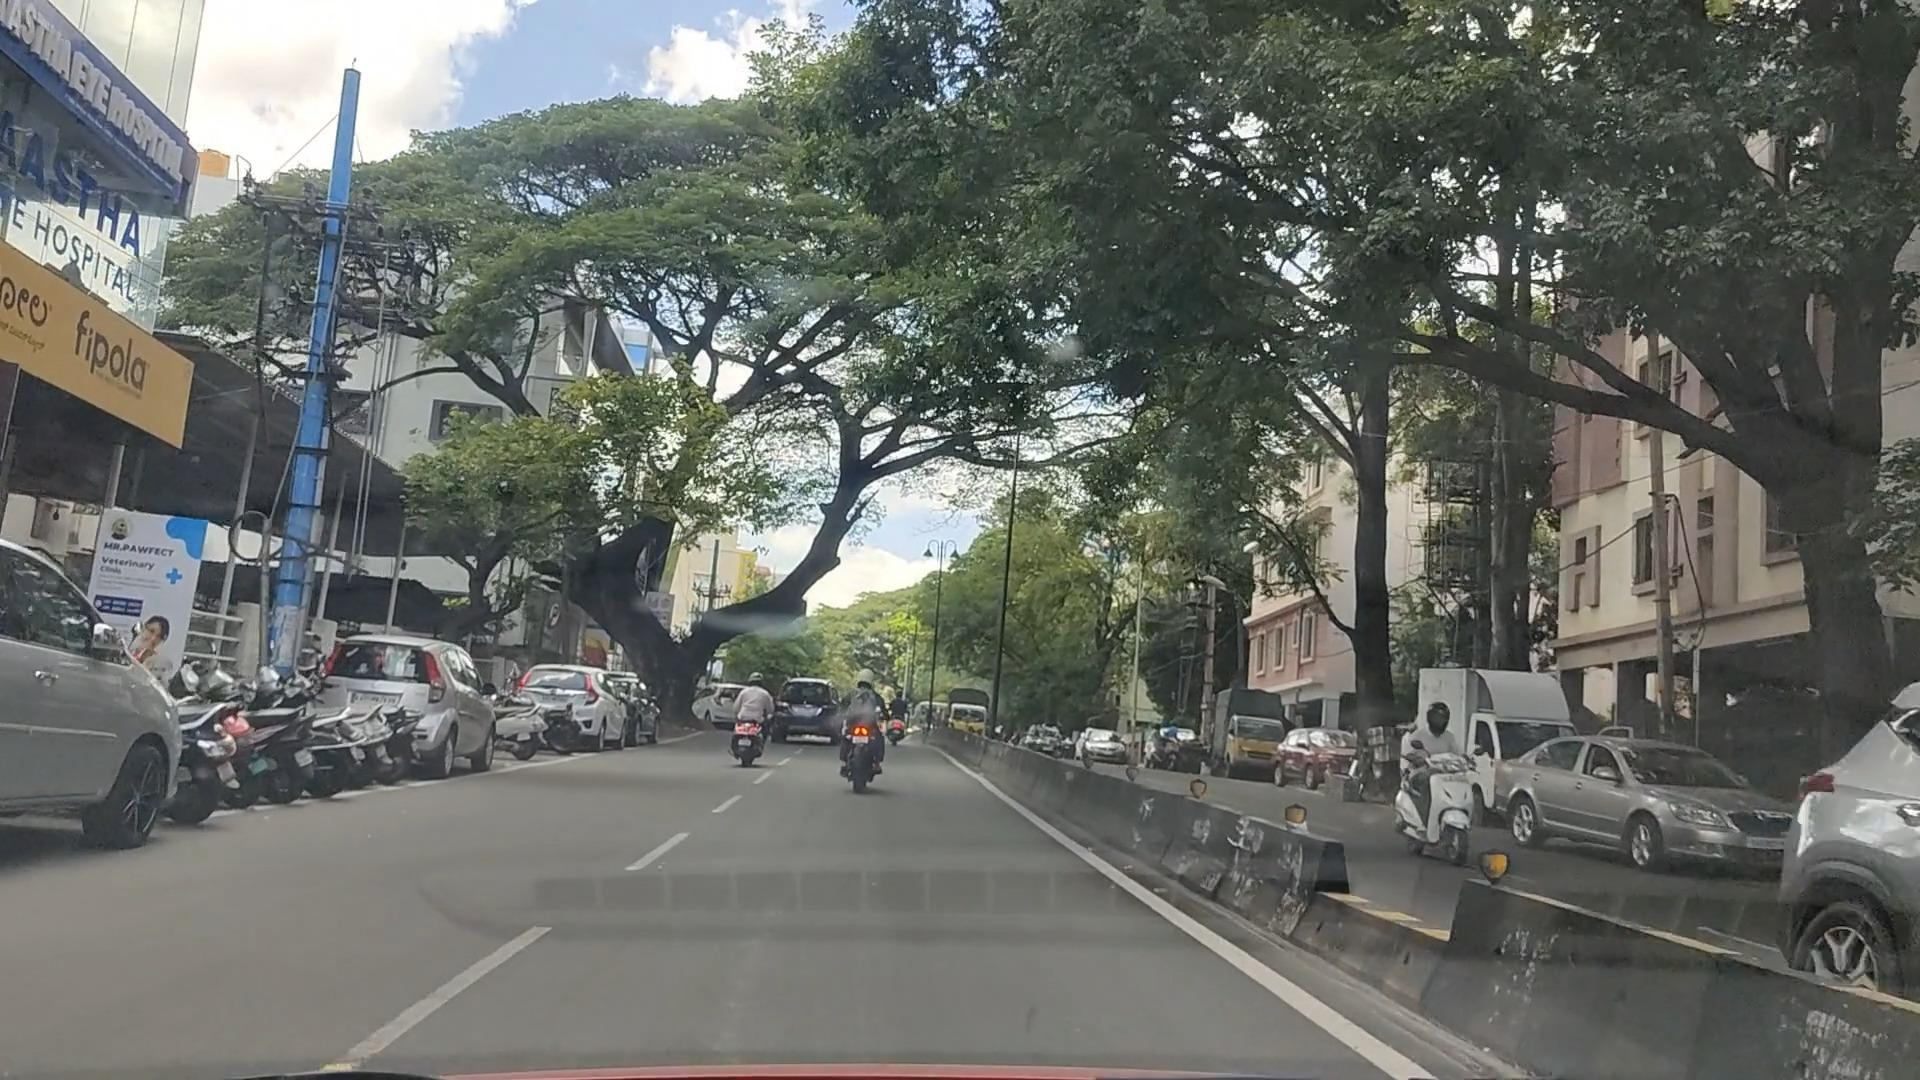LMV: (845, 675, 891, 800)
